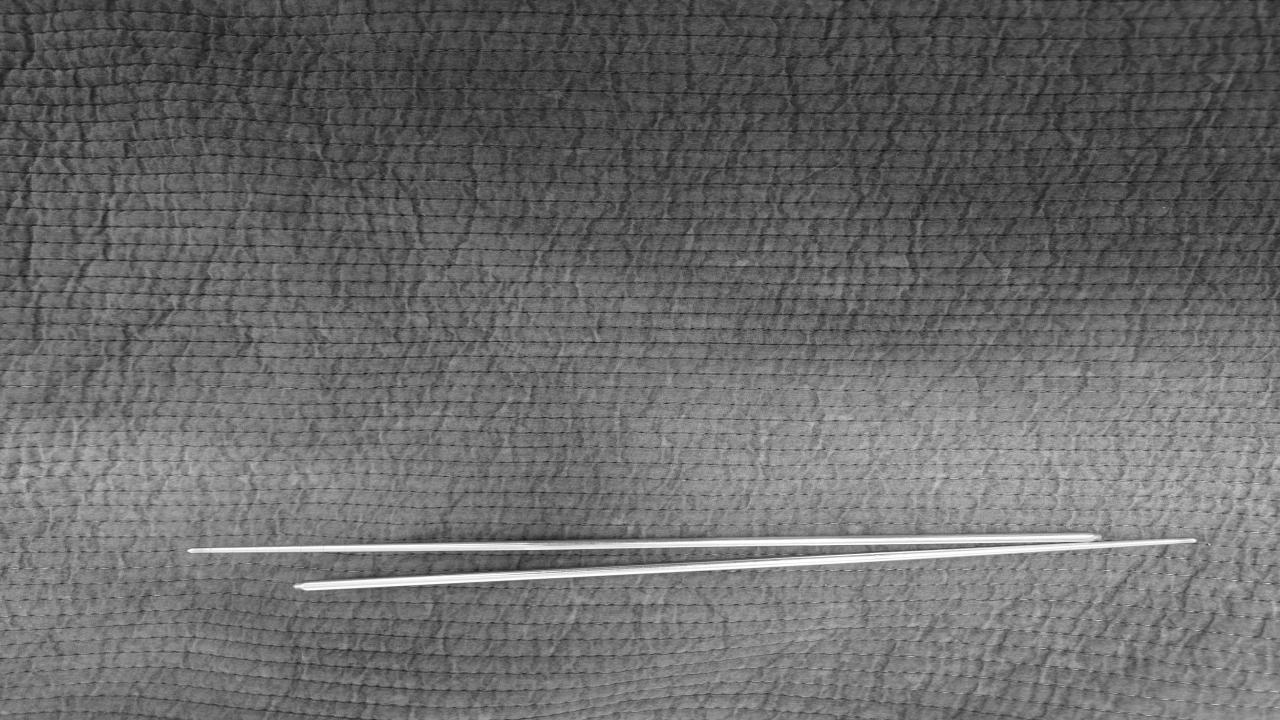chopstick: (281, 534, 1206, 596), (180, 530, 1105, 559)
